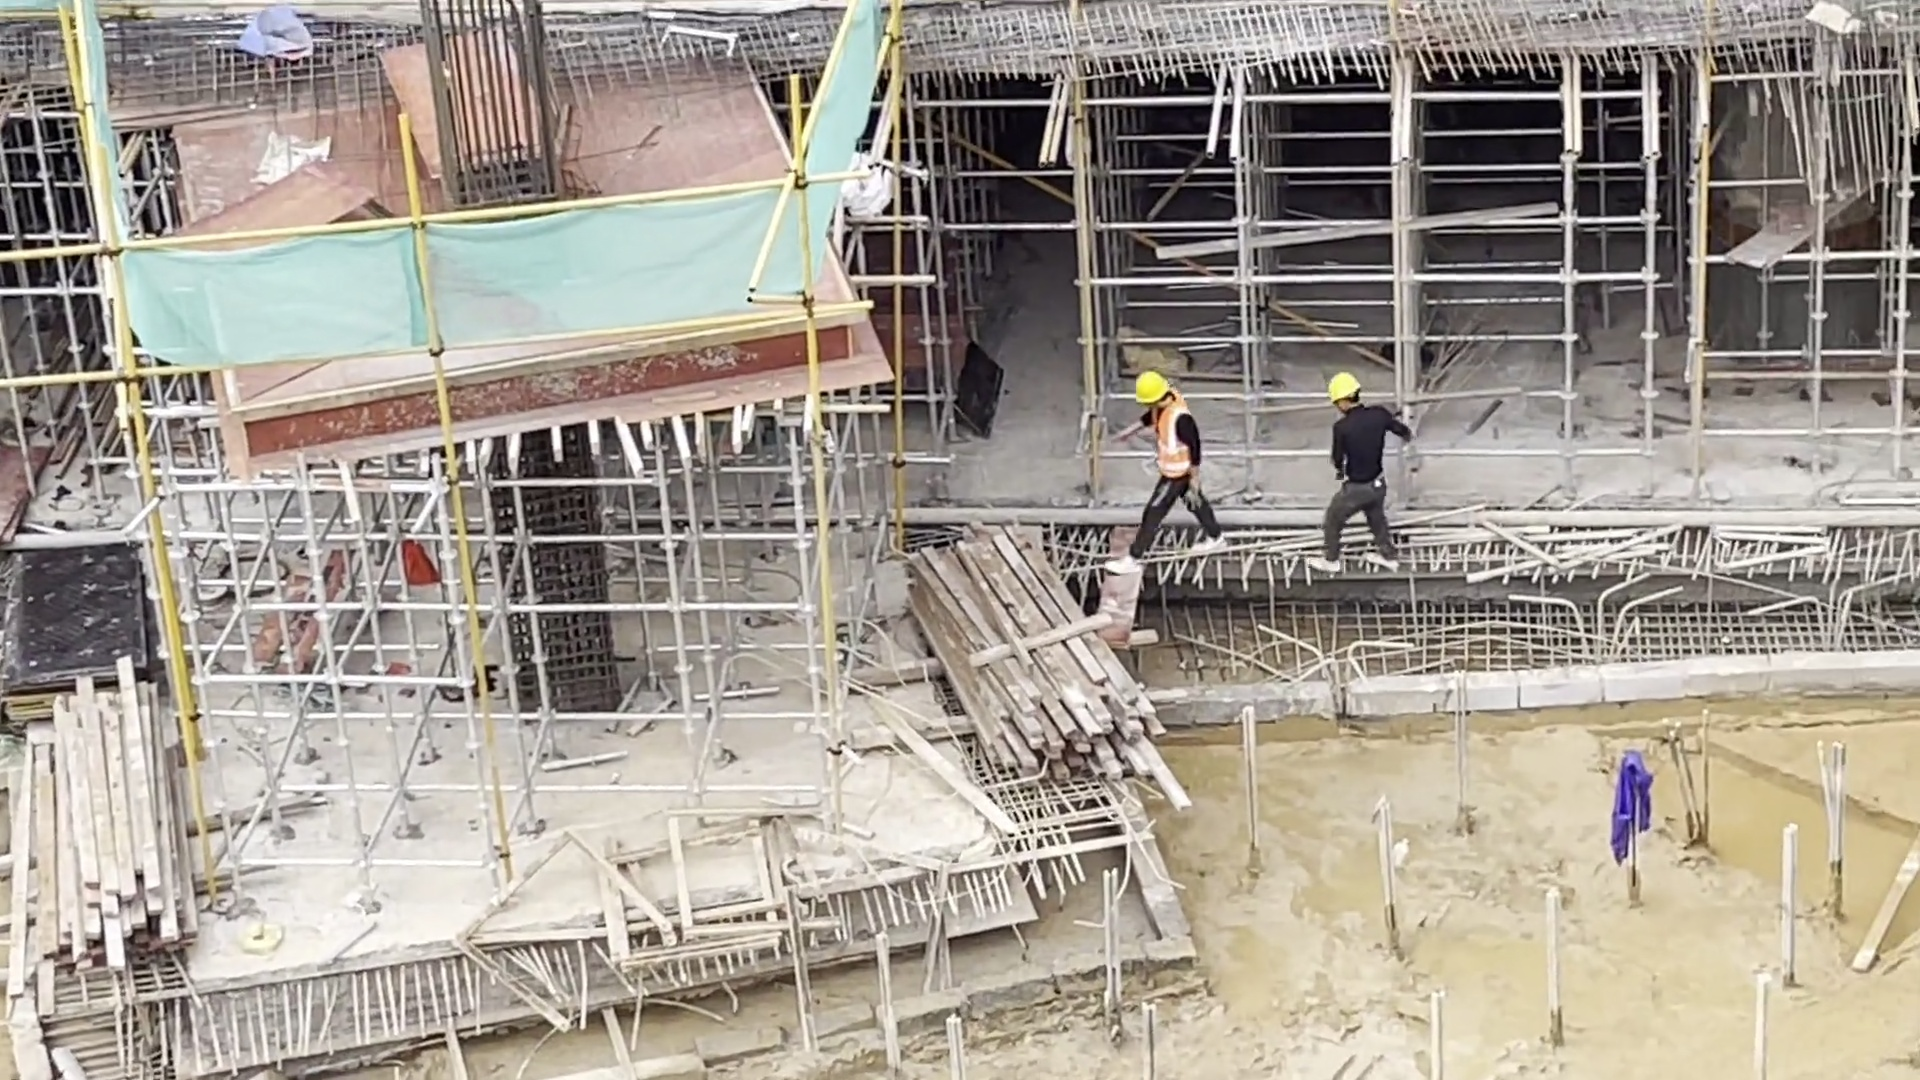helmet: (1130, 369, 1168, 405), (1327, 368, 1360, 404)
person: (1298, 370, 1418, 577), (1124, 365, 1229, 566)
vest: (1153, 388, 1200, 482)
